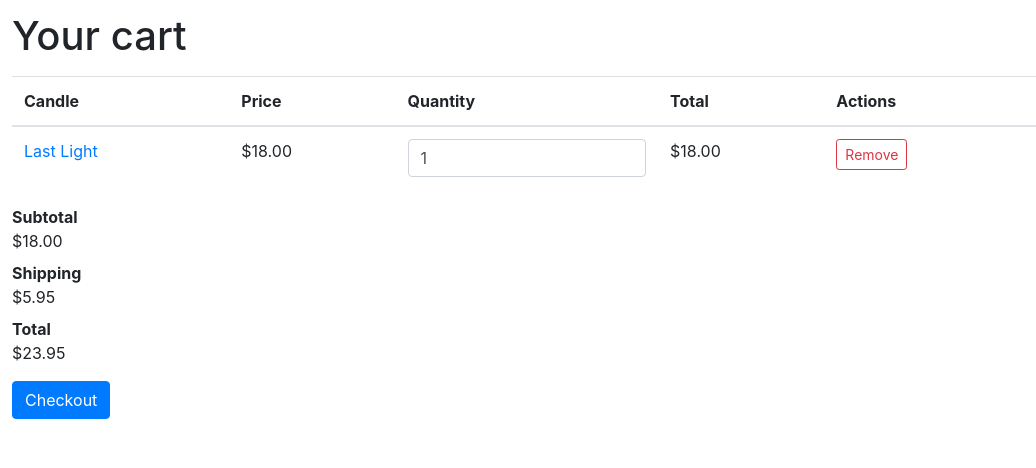
Test case: CartComponent › [BR-C2] clamps to the stock when below ten
Replace the text in the number field with "5" at (527, 158), box left=408, top=139, right=646, bottom=177
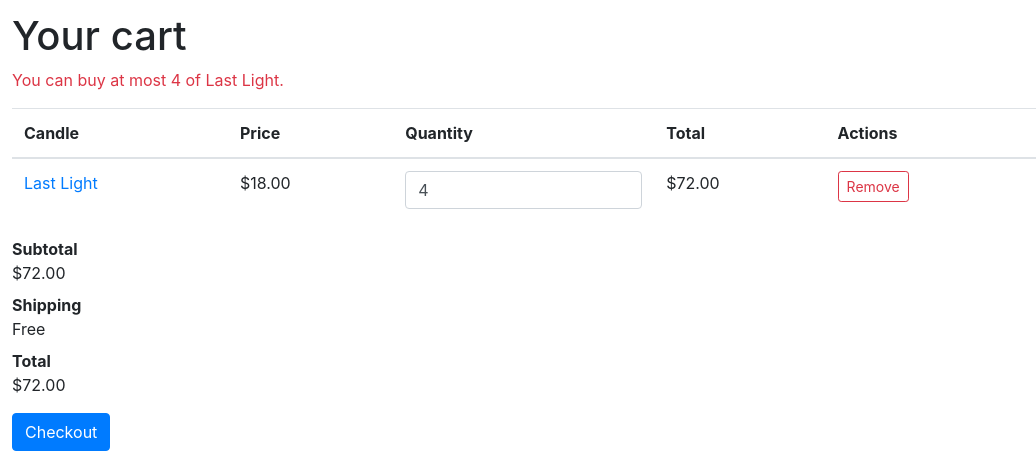
Expected: the message "You can buy at most 4 of Last Light." is shown, left=12, top=70, right=284, bottom=90
